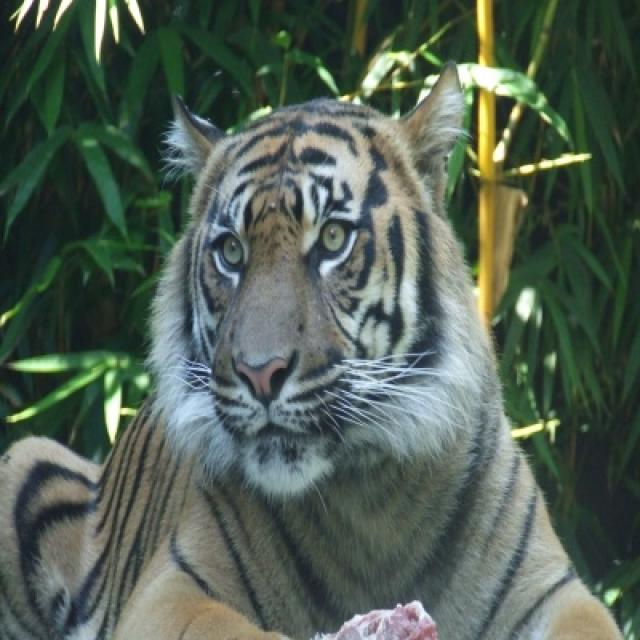Tiger: (0, 66, 603, 632)
